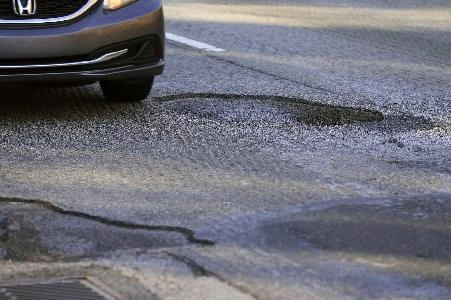pothole: (0, 193, 214, 263), (152, 89, 383, 129)
